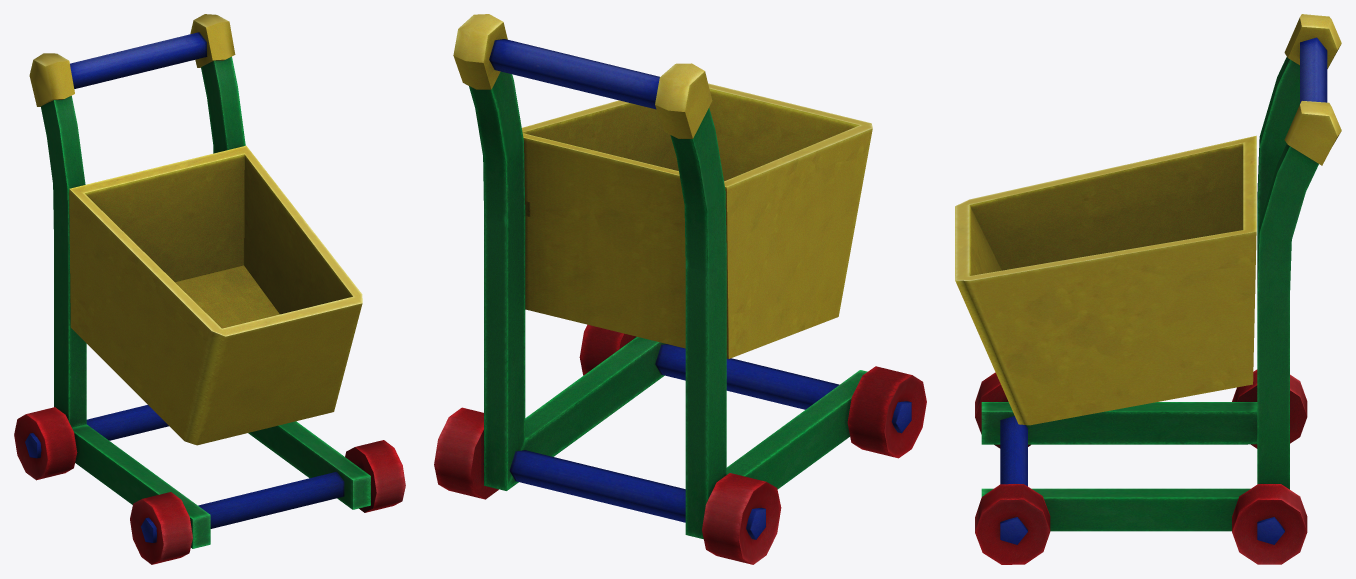
The model's file is Sun_0018_Kids_Trolley_Toy.fbx.
3 renders of one model, left to right at view 1: azimuth 30°, elevation 25°; view 2: azimuth 150°, elevation 25°; view 3: azimuth 270°, elevation 25°, orthographic. The views are drawn at different scales.
Parts seen in each view (by area): view 1: Sun_0018_Kids_Trolley_Toy; view 2: Sun_0018_Kids_Trolley_Toy; view 3: Sun_0018_Kids_Trolley_Toy.
Boxes of the visible parts, bbox=[...] form: Sun_0018_Kids_Trolley_Toy: bbox=[14, 14, 405, 564]; Sun_0018_Kids_Trolley_Toy: bbox=[434, 14, 926, 564]; Sun_0018_Kids_Trolley_Toy: bbox=[955, 14, 1341, 564].
Bounding box in the file's own units: 50.86 × 78.18 × 62.48.
